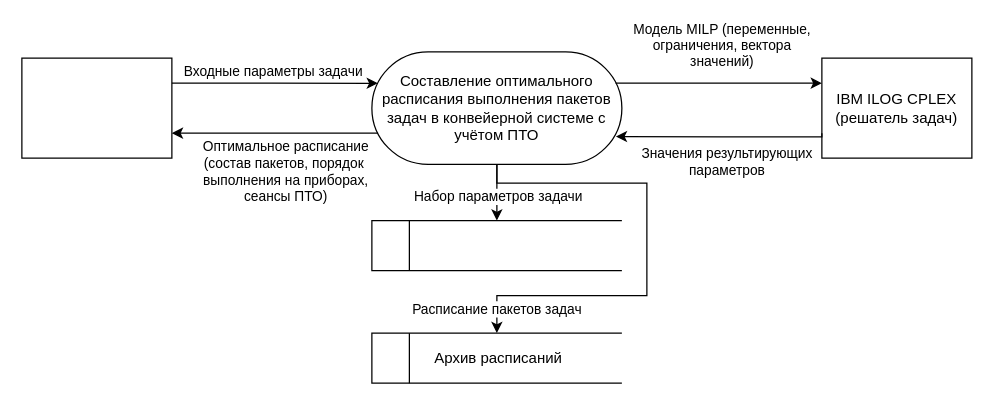
This 994x405 diagram has some shape labels left out. Each missing label, with the box of its shape:
Пользователь (оператор): (21, 57, 172, 158)
Файл с параметрами: (371, 219, 622, 271)
